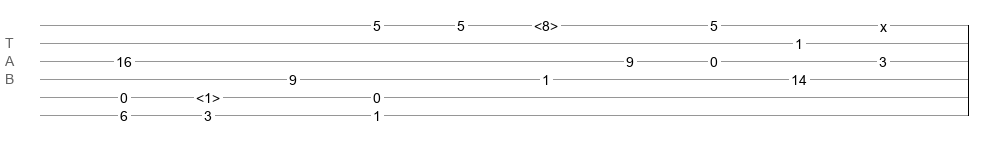0: (120, 90, 128, 100), (373, 90, 381, 100), (710, 54, 718, 64)
1: (373, 108, 381, 118), (542, 72, 550, 82), (795, 36, 803, 46)
14: (791, 72, 807, 82)
16: (116, 54, 132, 64)
3: (204, 108, 212, 118), (879, 54, 887, 64)
5: (373, 18, 381, 28), (457, 18, 465, 28), (710, 18, 718, 28)
6: (120, 108, 128, 118)
9: (289, 72, 297, 82), (626, 54, 634, 64)
harmonic: (196, 90, 220, 100), (534, 18, 558, 28)
x: (880, 19, 887, 27)
